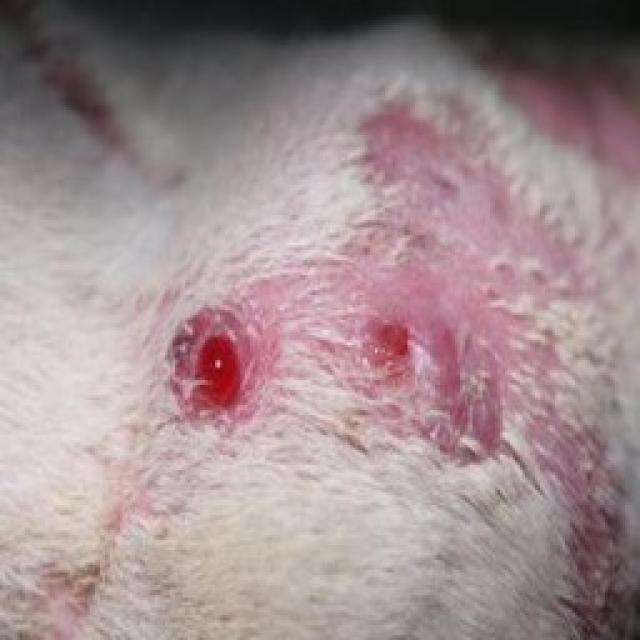hotspot: (193, 334, 242, 399), (371, 317, 412, 368)
